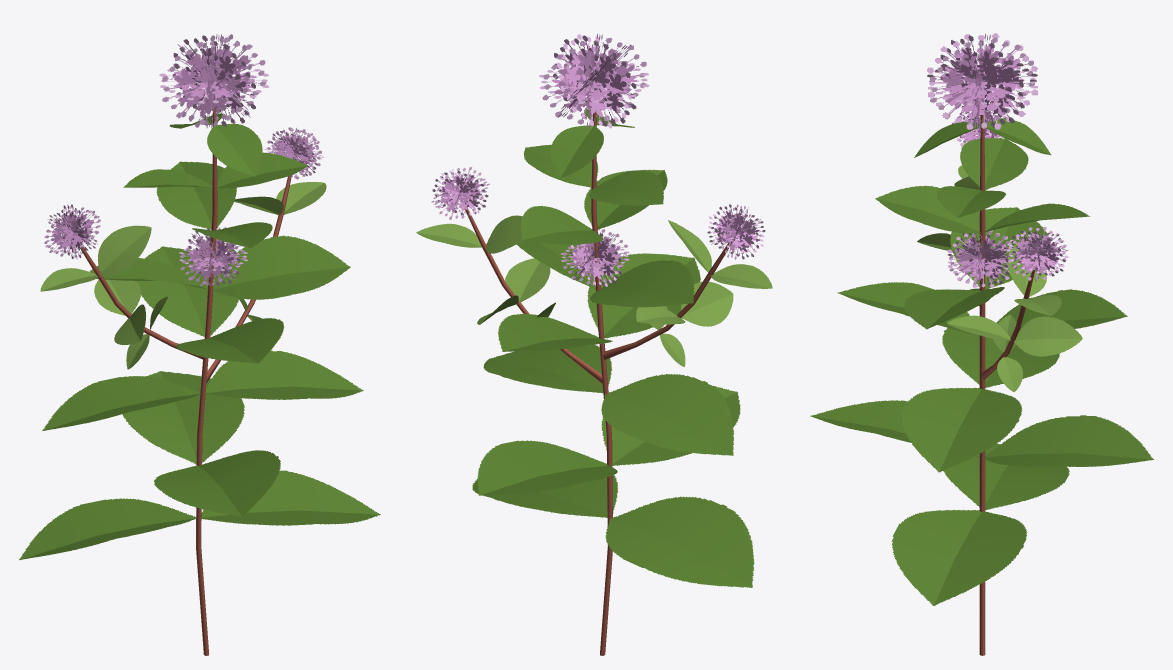
Rendered from Water_Mint_3.gltf.
3 views of the same model, side by side, from view 1: azimuth 30°, elevation 25°; view 2: azimuth 150°, elevation 25°; view 3: azimuth 270°, elevation 25° (orthographic).
Visible parts, largest first — view 1: Watermint_3; view 2: Watermint_3; view 3: Watermint_3.
Boxes of the visible parts, x1,y1,x2,y2 form: Watermint_3: [19, 34, 380, 655]; Watermint_3: [416, 33, 772, 655]; Watermint_3: [810, 33, 1153, 655].
Bounding box in the file's own units: 23 × 41.33 × 21.31.
Materials: 1 (1 with a texture image).
